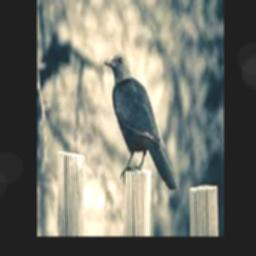Crow: (104, 51, 178, 190)
